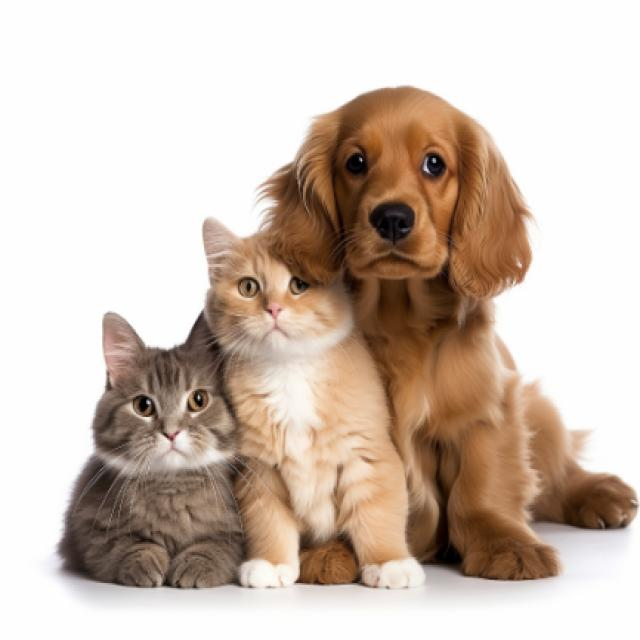cats: (206, 216, 377, 587), (90, 307, 240, 595)
dogs: (321, 86, 617, 574)
